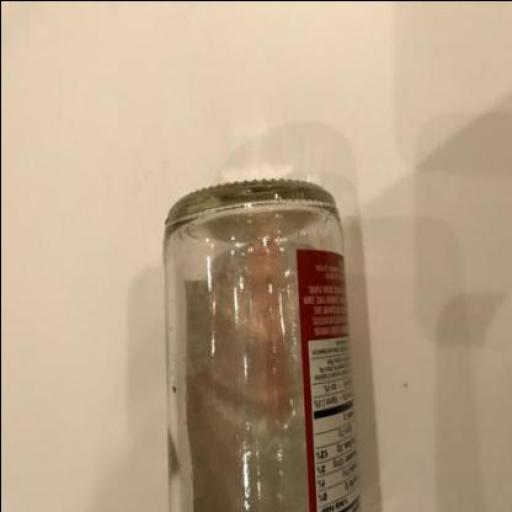glass: (163, 177, 358, 511)
